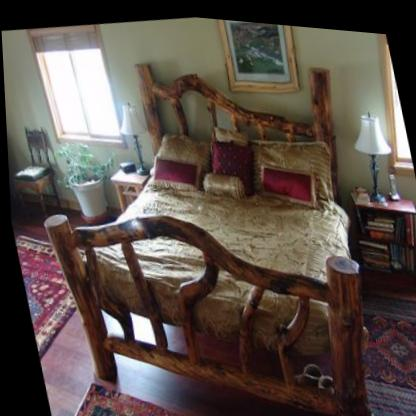Bed: (7, 20, 400, 416)
Chair: (5, 120, 62, 226)
